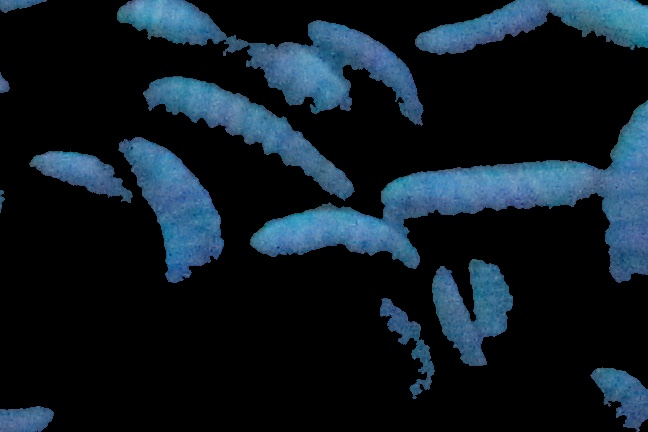larvae: (145, 76, 352, 199), (116, 1, 350, 108), (381, 159, 598, 234), (120, 137, 225, 289), (304, 22, 431, 124), (251, 211, 427, 268), (596, 106, 648, 282), (416, 1, 562, 53), (374, 297, 439, 402), (432, 258, 490, 375), (31, 152, 137, 212), (554, 2, 648, 55), (586, 355, 648, 432), (470, 248, 516, 347)
